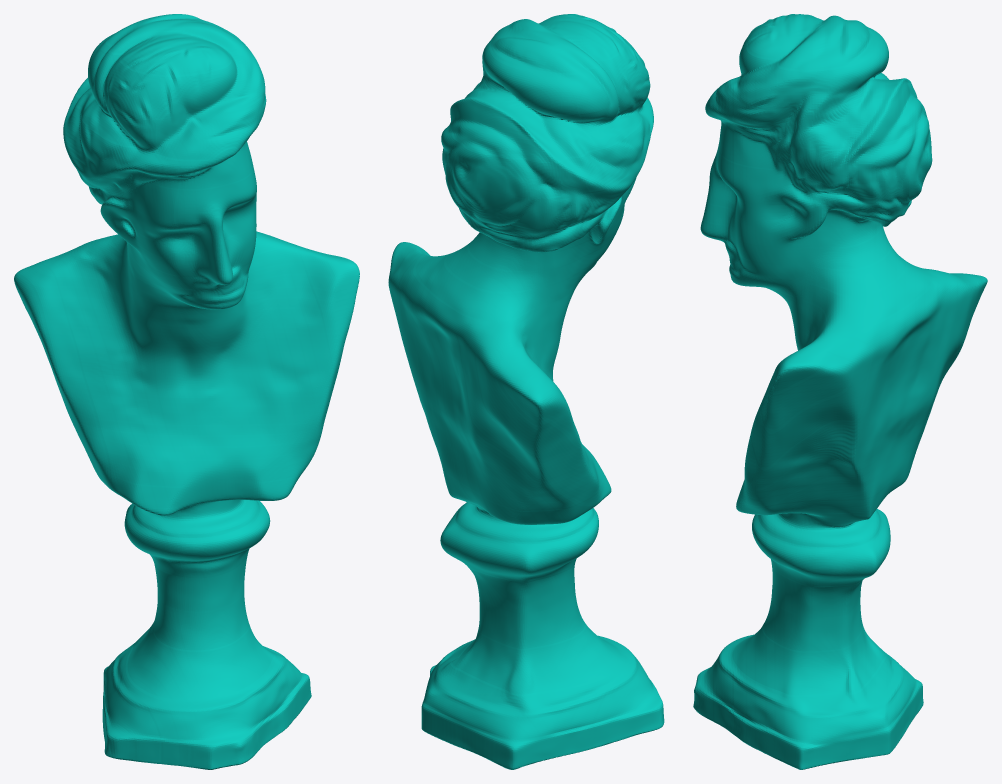
3 views of the same model, side by side, from view 1: azimuth 30°, elevation 25°; view 2: azimuth 150°, elevation 25°; view 3: azimuth 270°, elevation 25° (orthographic). The views are drawn at different scales.
Visible parts, largest first — view 1: world; view 2: world; view 3: world.
Boxes of the visible parts, x1,y1,x2,y2 form: world: (14,14,359,769); world: (388,14,664,769); world: (693,14,987,769).
Size of the model in its own units: 0.7644 by 1.98 by 0.772.
